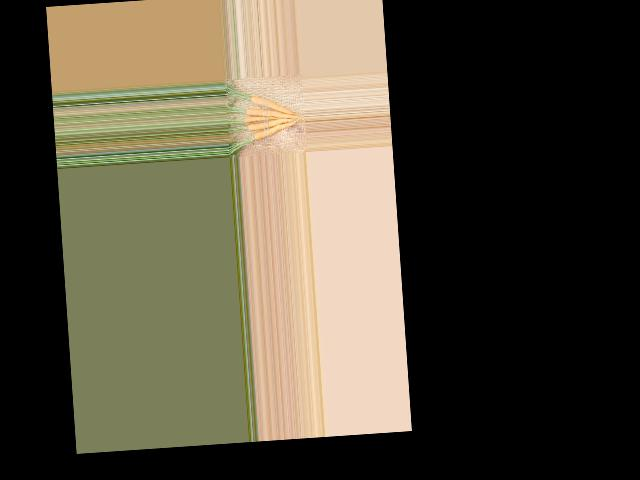carrot: (252, 121, 295, 141)
